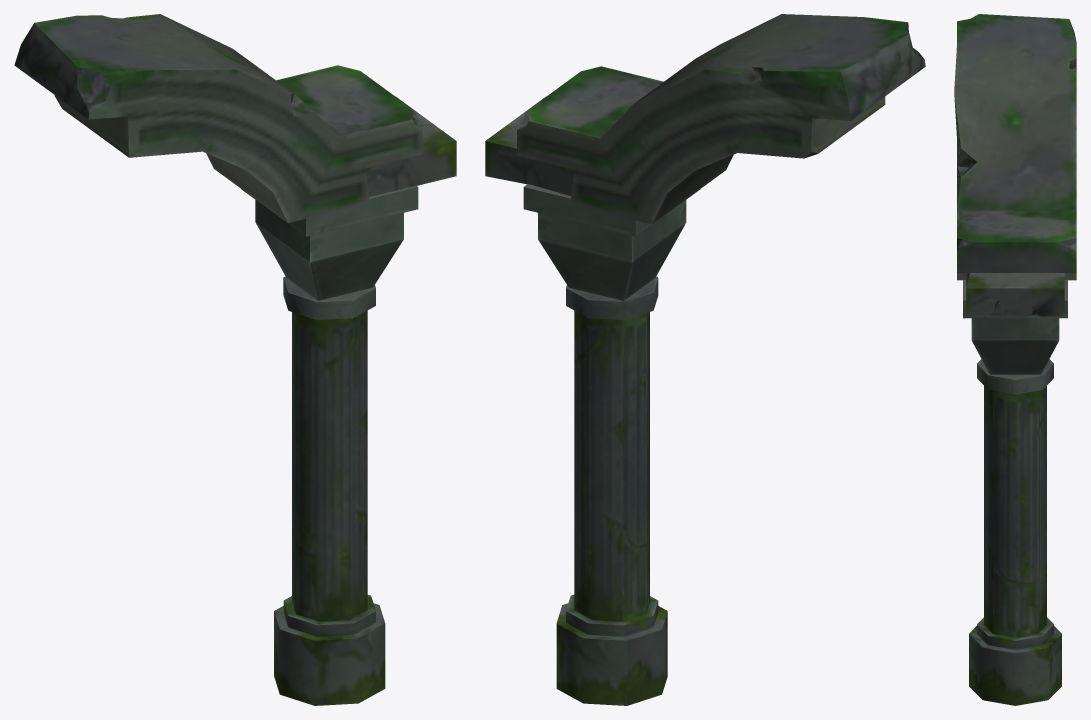
Rendered from Battle01_Pillars_01.FBX.
The picture shows the model from 3 angles, left to right: view 1: azimuth 30°, elevation 25°; view 2: azimuth 150°, elevation 25°; view 3: azimuth 270°, elevation 25°; orthographic projection. The views are drawn at different scales.
Parts seen in each view (by area): view 1: C01_Pillars_01, C01_Pillars_01_ncl1_1; view 2: C01_Pillars_01, C01_Pillars_01_ncl1_1; view 3: C01_Pillars_01, C01_Pillars_01_ncl1_1.
Part boxes in pixels (x1,y1,x2,y2): C01_Pillars_01: (241,96,456,705); C01_Pillars_01_ncl1_1: (14,14,423,222); C01_Pillars_01: (485,96,700,705); C01_Pillars_01_ncl1_1: (517,14,925,224); C01_Pillars_01: (963,273,1067,705); C01_Pillars_01_ncl1_1: (954,14,1076,280).
Bounding box in the file's own units: 3.91 × 6.82 × 1.34.
